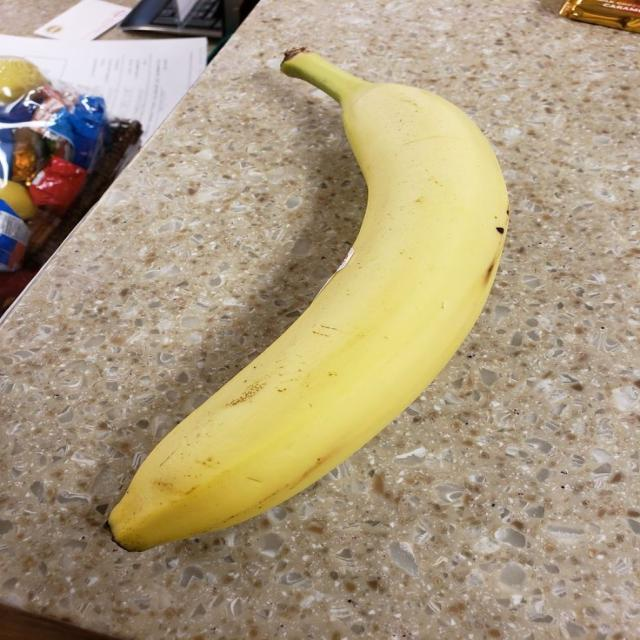unpeal banana: (108, 49, 507, 550)
